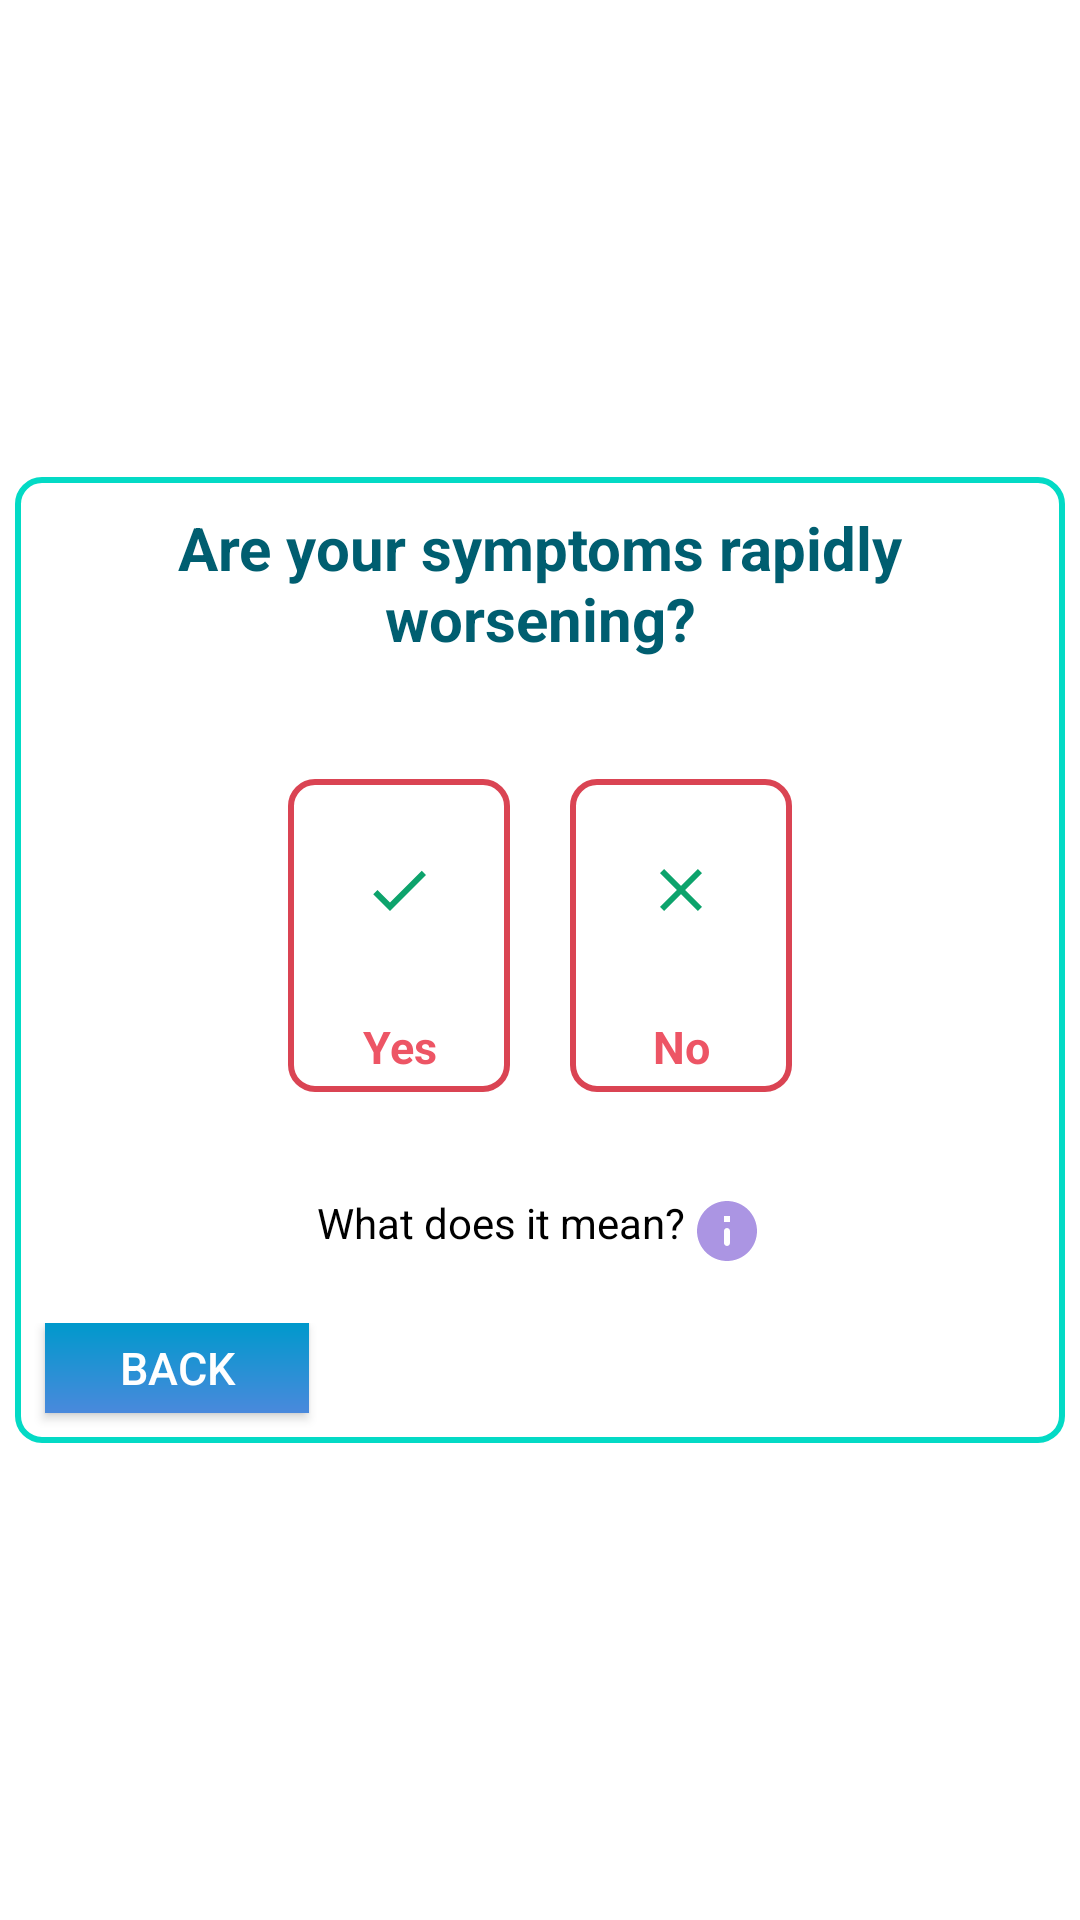

Named icons in this screenshot (1080*1920) and their centers, (x,y):
close: (681,890)
moreinfo: (727,1231)
